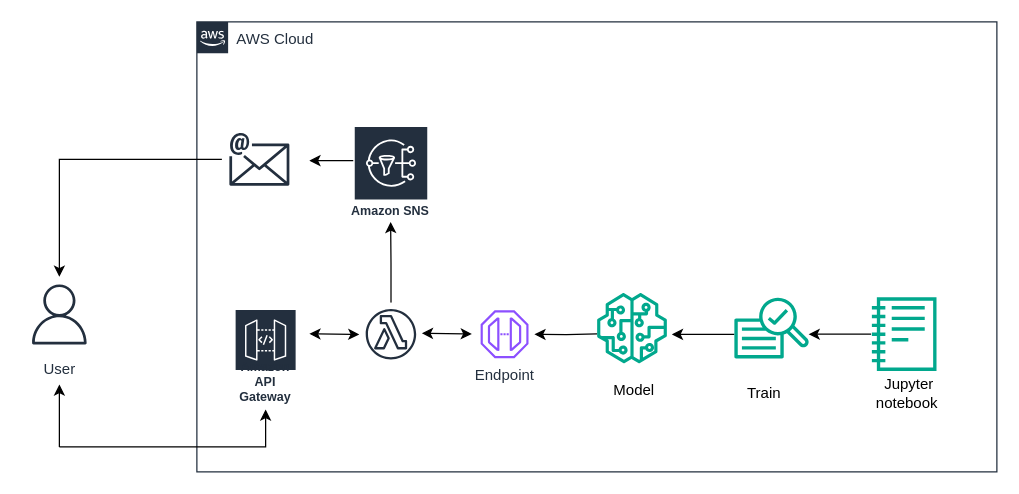
Image size: 1019x494. Some labels were removed from this diagram. The centre of each missing label's shape, as x and y in pixels:
Email: point (259, 159)
Trigger Endpoint: point (390, 333)
